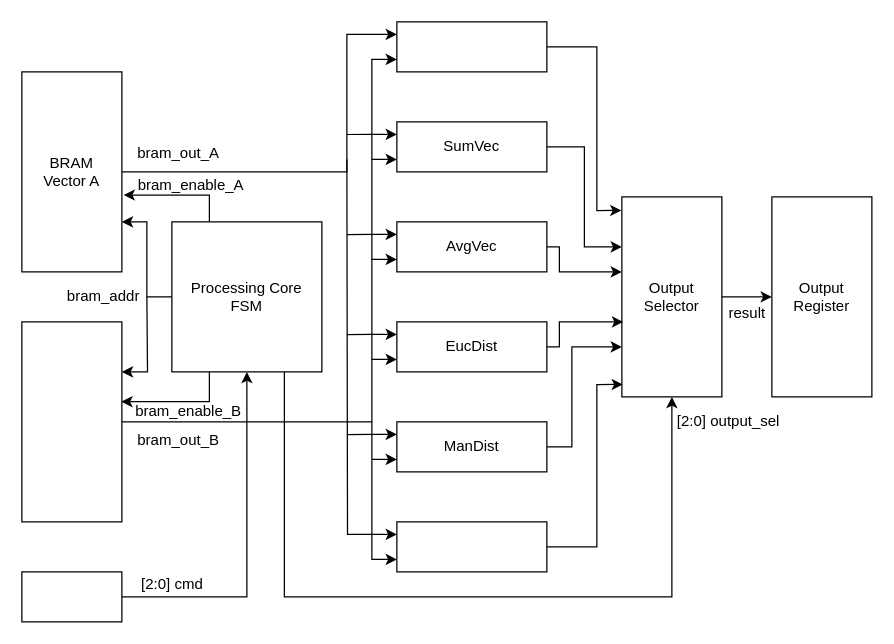
The diagram is 894 pixels wide and 644 high, and some of its shapes have lost their labels. The box of each missing label's shape, as (x1, y1, x2, y2) in pixels:
BRAM Vector B: (21, 321, 122, 522)
Command Decoder: (21, 571, 122, 622)
DotProd: (396, 521, 547, 572)
ReadVec: (396, 21, 547, 72)
